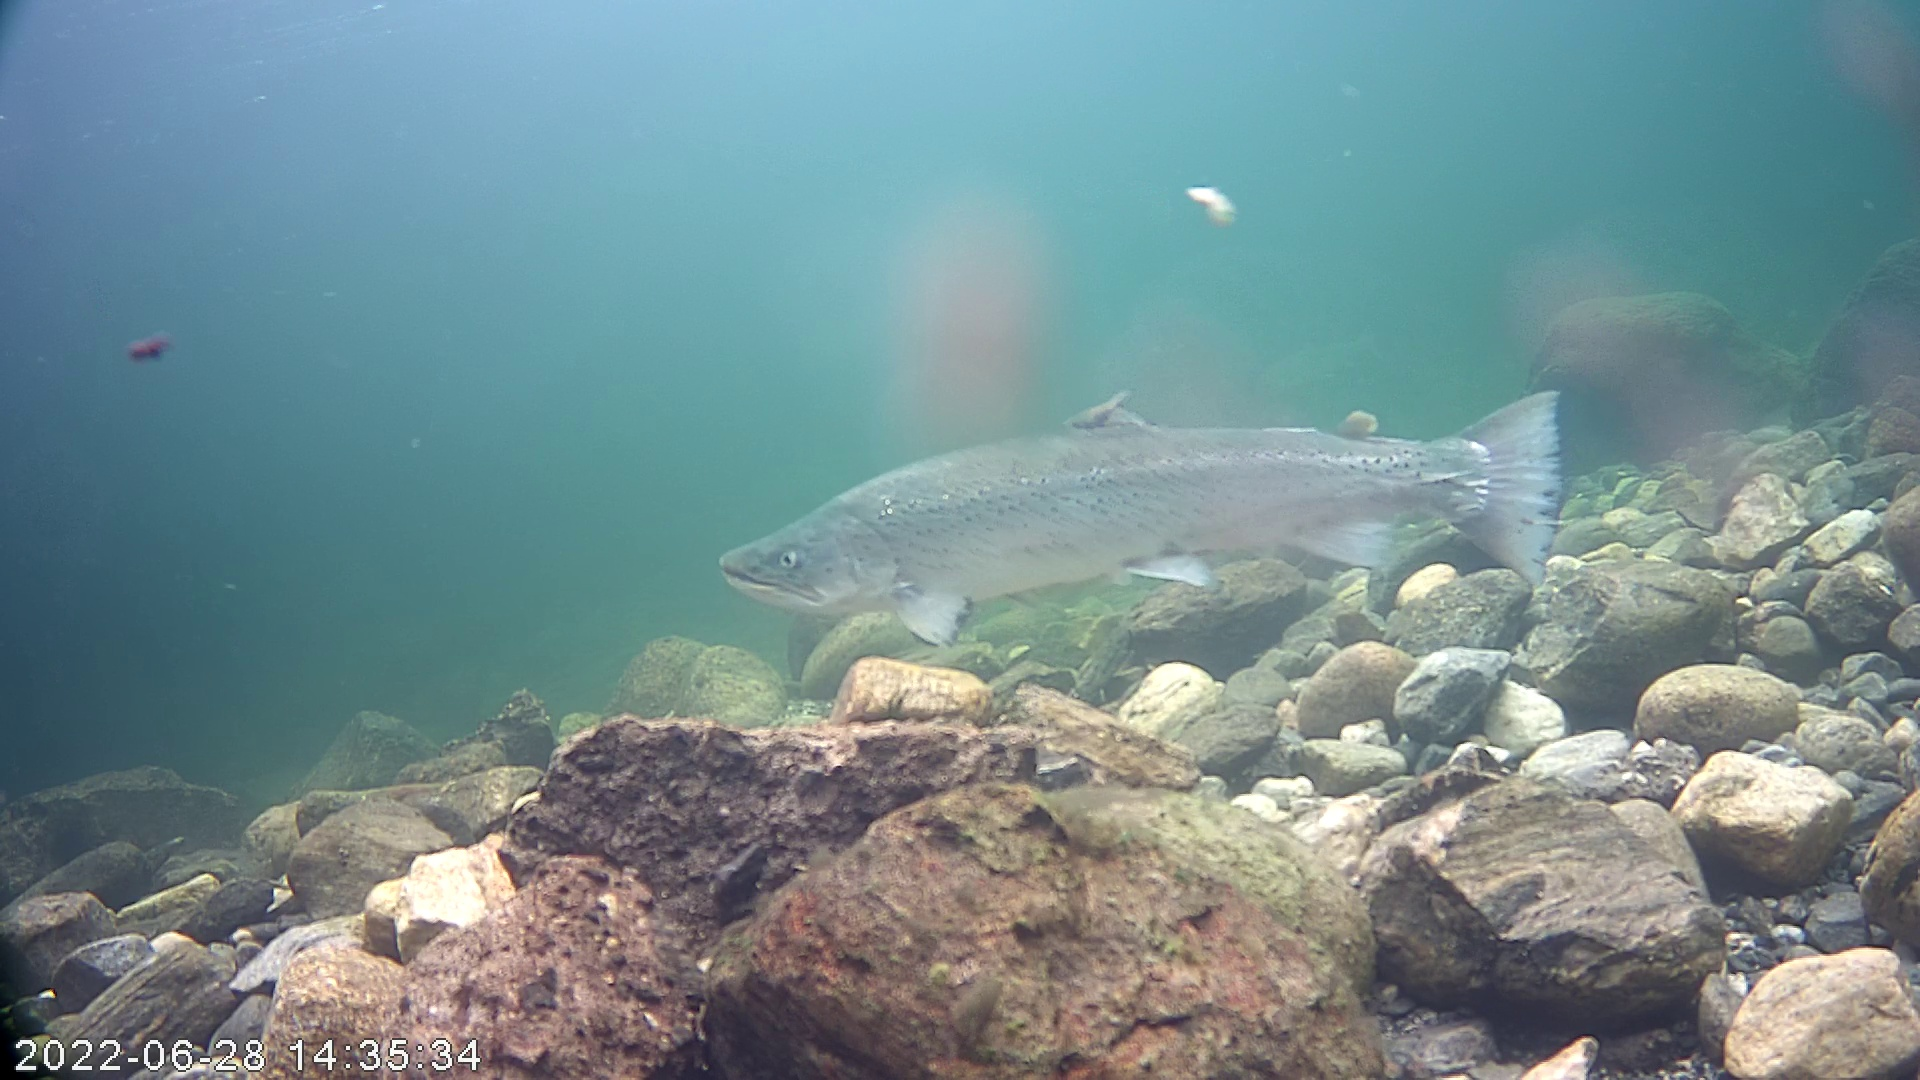salmon: (704, 281, 1594, 699)
